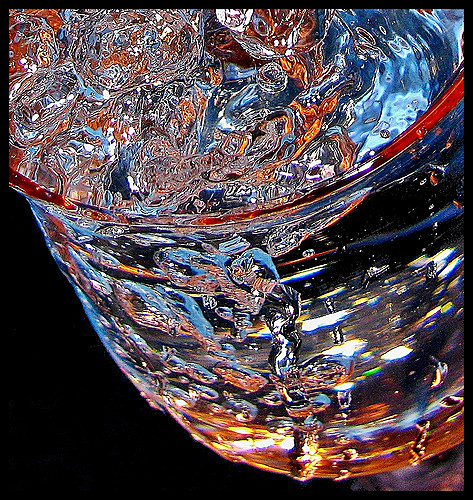glass of water: (58, 51, 439, 480)
